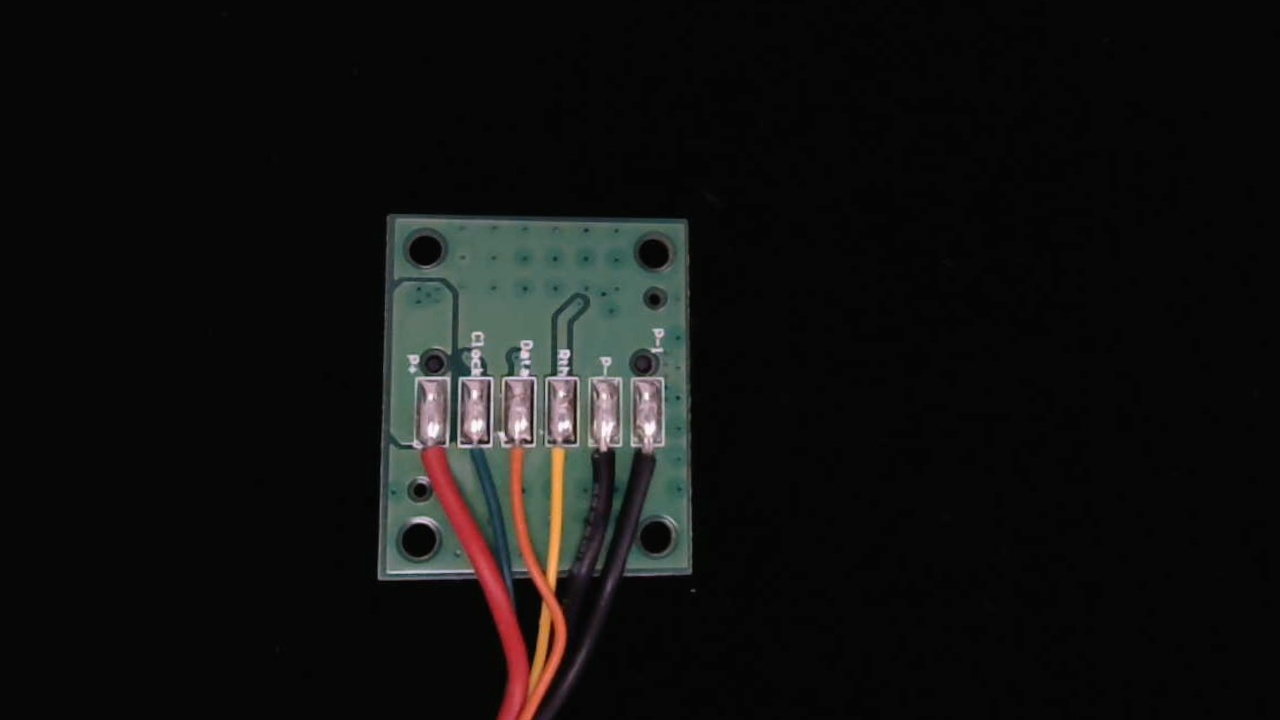Black: (586, 427, 625, 509)
Black1: (630, 428, 668, 502)
Green: (459, 426, 497, 497)
Orange: (498, 429, 537, 509)
Red: (409, 429, 449, 508)
Yellow: (541, 427, 581, 509)
